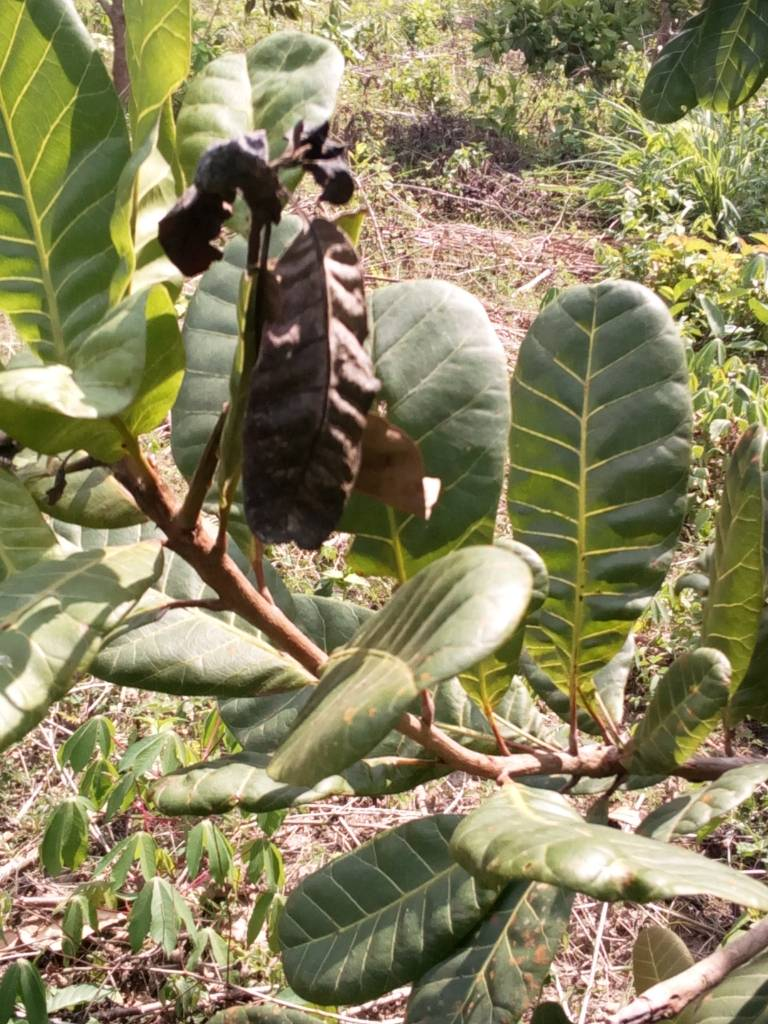Dessèchement des bourgeons: (160, 138, 299, 283), (286, 119, 355, 207)
